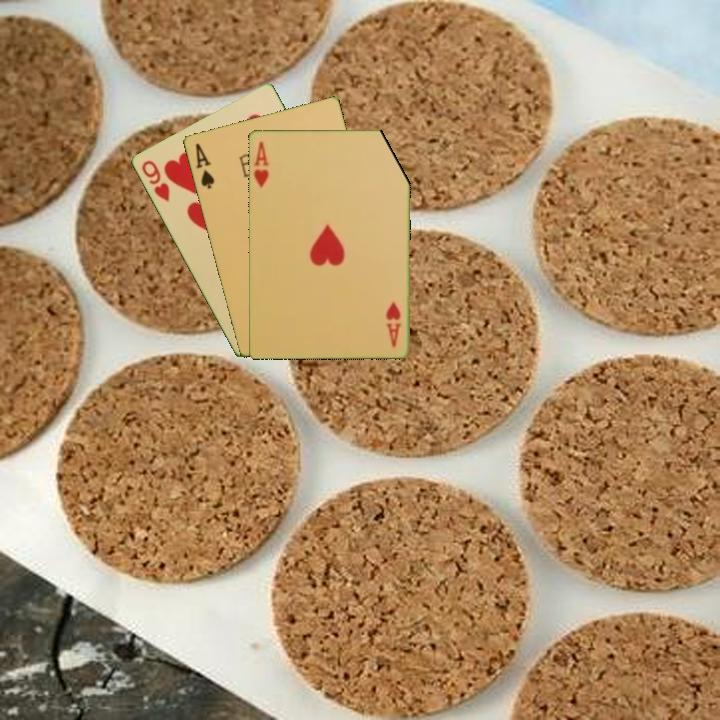9h: (138, 157, 172, 204)
Ah: (250, 138, 271, 190), (383, 298, 404, 350)
As: (191, 139, 217, 192)
